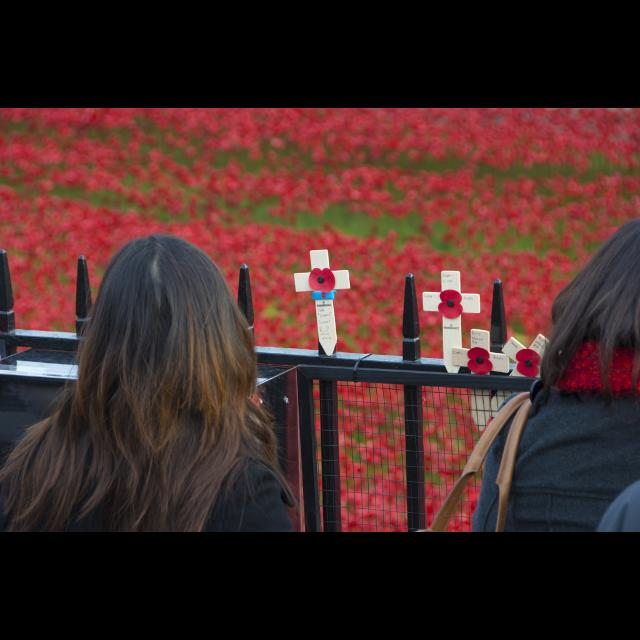Flower: (1, 109, 640, 532)
